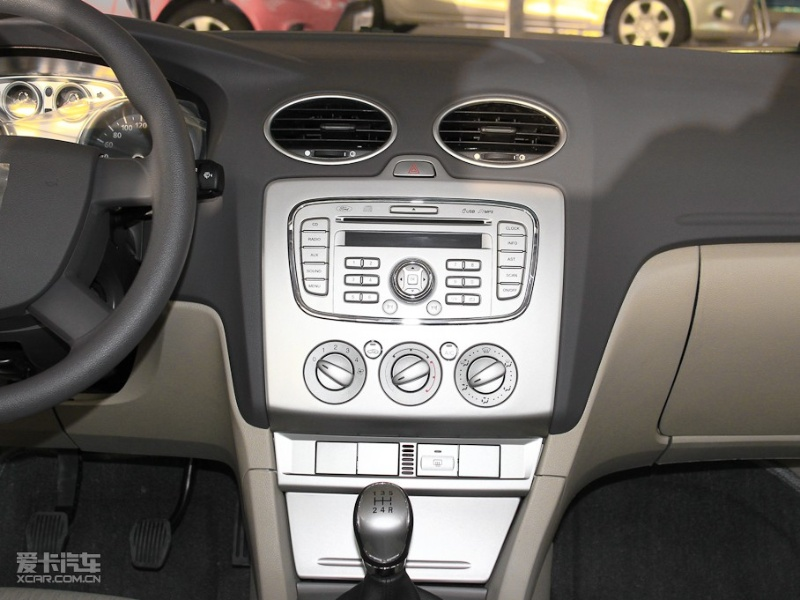control_center: (234, 61, 579, 455)
gear_lever: (342, 453, 476, 559)
odometer: (4, 62, 185, 160)
steering_wheel: (1, 13, 218, 371)
